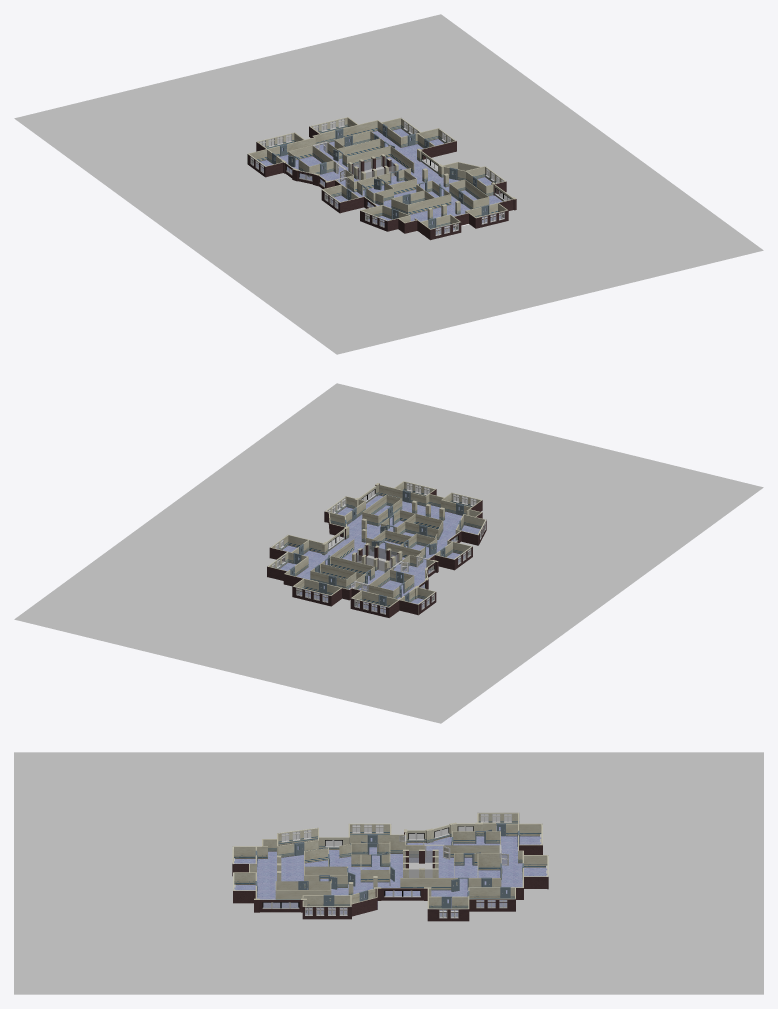
The model's file is Level03Final.fbx.
The picture shows the model from 3 angles, top to bottom: view 1: azimuth 30°, elevation 25°; view 2: azimuth 150°, elevation 25°; view 3: azimuth 270°, elevation 25°; orthographic projection. The views are drawn at different scales.
Visible parts, largest first — view 1: Groundplane_outside, Walls, polySurface1049, Wall_Windowed_1, Doors_1, Wall_Windowed_2; view 2: Groundplane_outside, Walls, polySurface1049, Wall_Windowed_1, Doors_1; view 3: Groundplane_outside, Walls, polySurface1049, Wall_Windowed_1, Doors_1, Wall_Windowed_2.
Boxes of the visible parts, x1,y1,x2,y2 form: Groundplane_outside: [14, 14, 763, 354]; Walls: [247, 117, 516, 239]; polySurface1049: [253, 128, 502, 234]; Wall_Windowed_1: [248, 117, 507, 240]; Doors_1: [272, 124, 489, 228]; Wall_Windowed_2: [285, 151, 512, 208]; Groundplane_outside: [14, 383, 763, 723]; Walls: [268, 481, 485, 617]; polySurface1049: [280, 494, 480, 612]; Wall_Windowed_1: [267, 481, 486, 617]; Doors_1: [289, 490, 464, 606]; Groundplane_outside: [14, 752, 763, 994]; Walls: [233, 812, 547, 916]; polySurface1049: [234, 826, 547, 916]; Wall_Windowed_1: [232, 812, 548, 921]; Doors_1: [255, 823, 523, 908]; Wall_Windowed_2: [260, 823, 475, 912].
Size of the model in its own units: 386 by 11.38 by 506.
